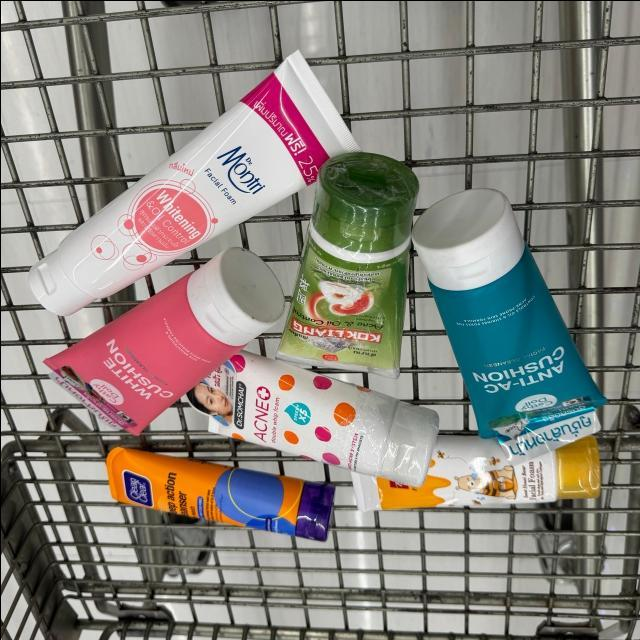Squeeze Tube: (13, 35, 380, 330), (26, 237, 306, 458), (415, 175, 628, 443), (261, 150, 431, 385), (183, 348, 447, 498), (95, 435, 347, 553), (348, 416, 608, 525)
